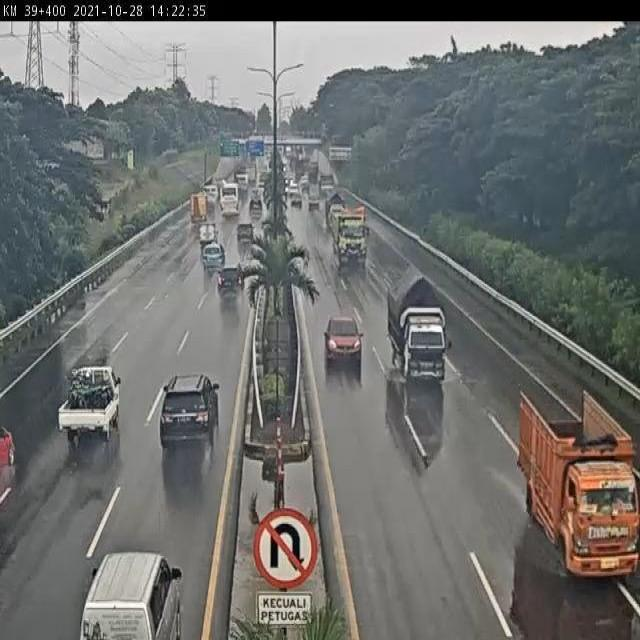car: (57, 363, 119, 443), (159, 372, 219, 445), (323, 319, 365, 372)
truck: (517, 386, 640, 582), (387, 265, 446, 387), (332, 207, 371, 269)
